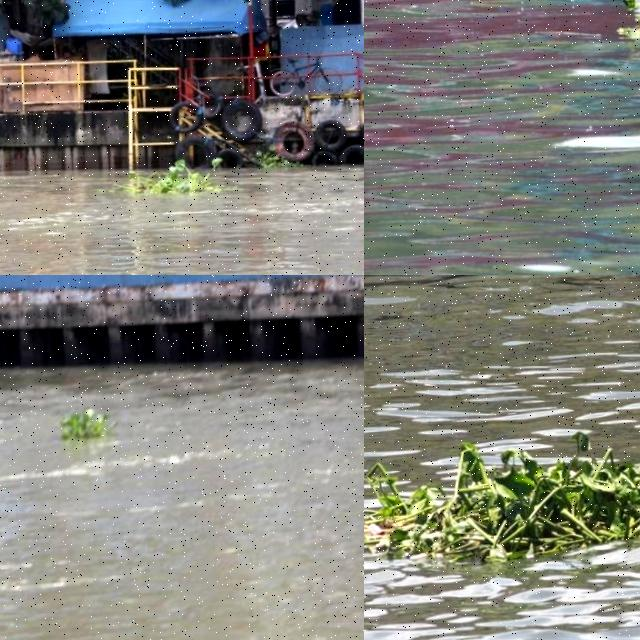water-hyacinth: (365, 428, 640, 566), (132, 155, 245, 200), (55, 404, 114, 445)
